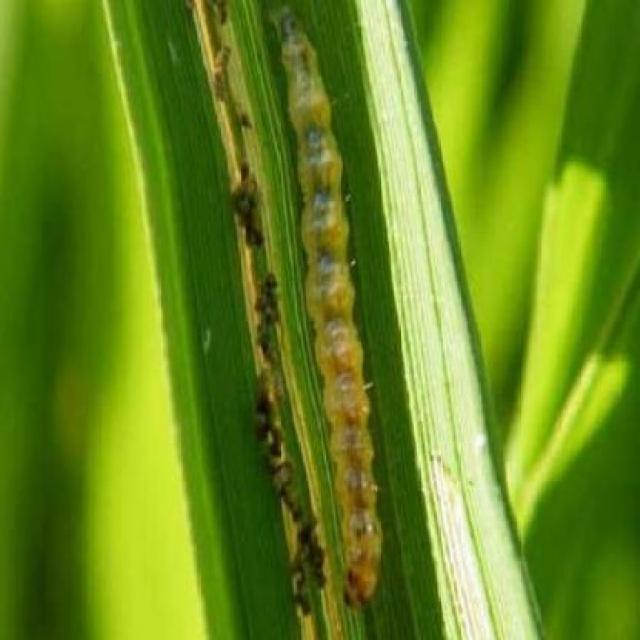leaf-folder: (238, 6, 431, 611)
